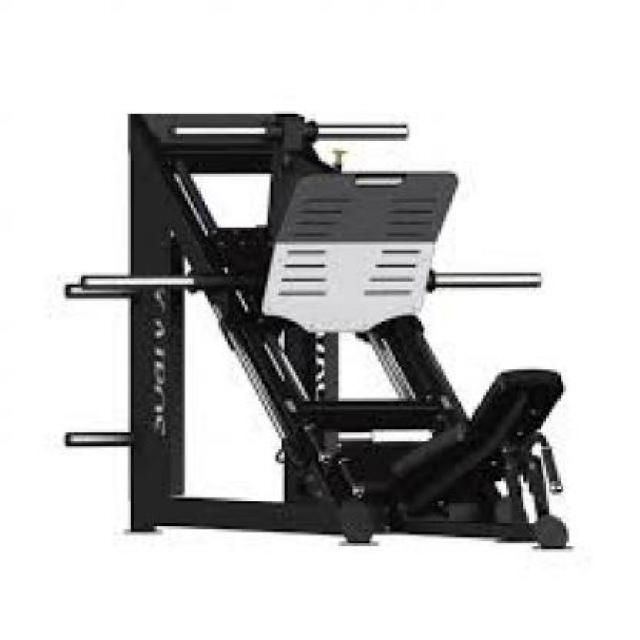leg press: (50, 90, 592, 572)
